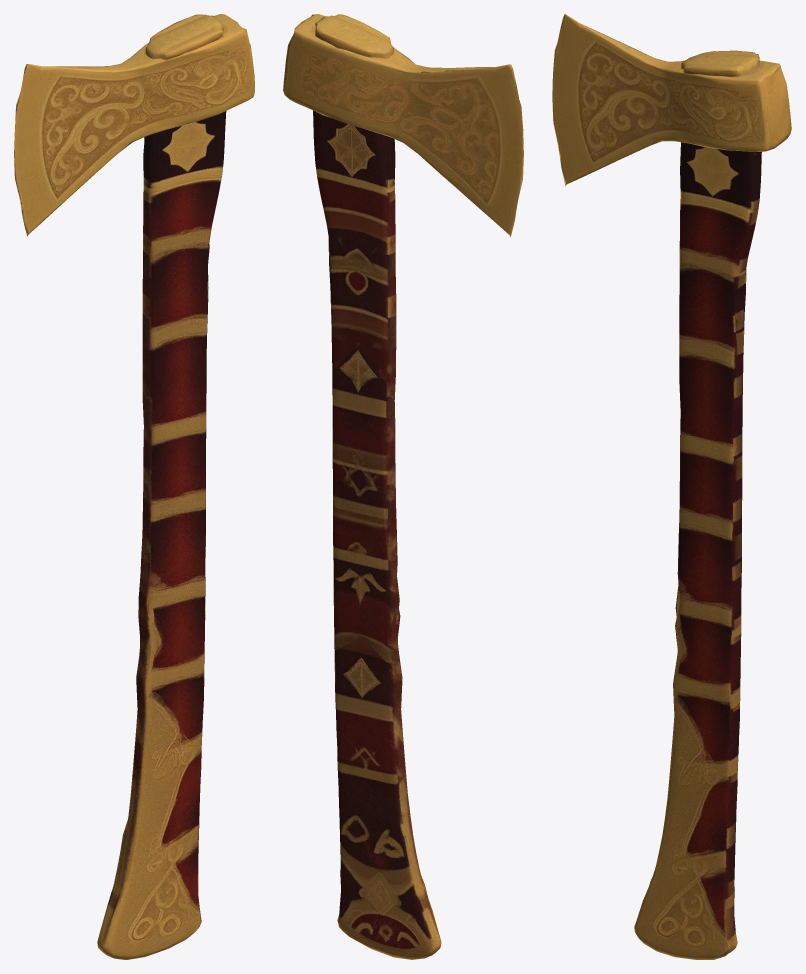
File: axe_golden.glb
3 renders of one model, left to right at view 1: azimuth 30°, elevation 25°; view 2: azimuth 150°, elevation 25°; view 3: azimuth 330°, elevation 25°, orthographic.
Size of the model in its own units: 0.2515 by 0.9507 by 0.0542.
Materials: 1 (1 with a texture image).
